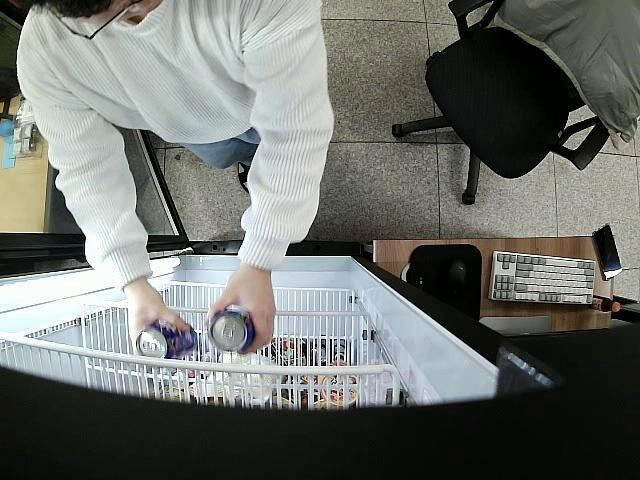14_welchsGrape: (136, 320, 198, 359), (208, 310, 255, 354)
